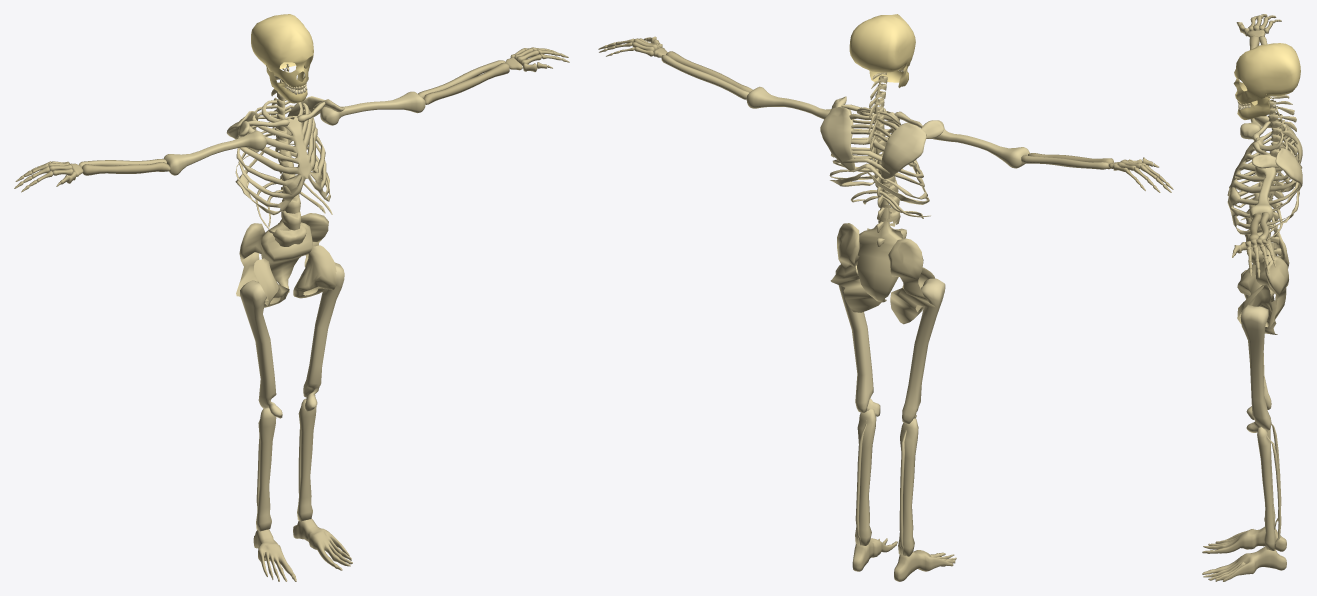
Rendered from İskelet.fbx.
3 renders of one model, left to right at view 1: azimuth 30°, elevation 25°; view 2: azimuth 150°, elevation 25°; view 3: azimuth 270°, elevation 25°, orthographic. The views are drawn at different scales.
Parts seen in each view (by area): view 1: Skeleton; view 2: Skeleton; view 3: Skeleton.
Part boxes in pixels (x1,y1,x2,y2): Skeleton: [14, 14, 569, 581]; Skeleton: [598, 14, 1173, 581]; Skeleton: [1202, 14, 1302, 581].
Size of the model in its own units: 1641 by 1515 by 266.
